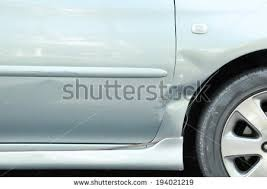Dent: (159, 53, 202, 121)
Scratch: (52, 111, 100, 145)
